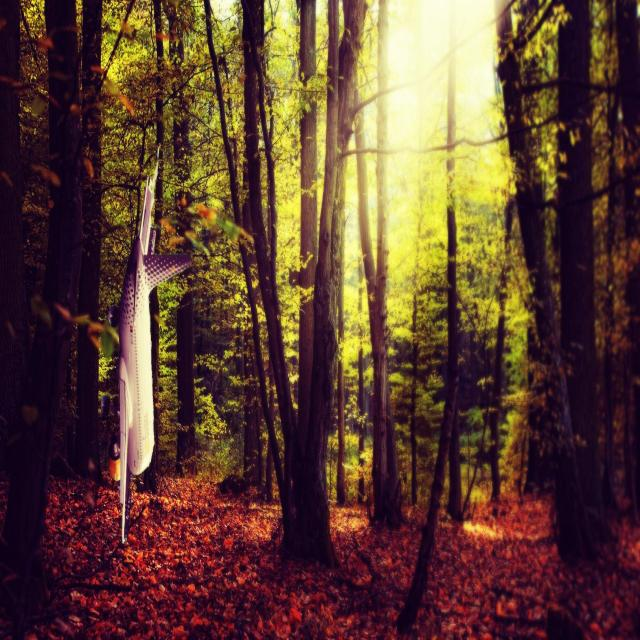airplane: (108, 146, 191, 544)
